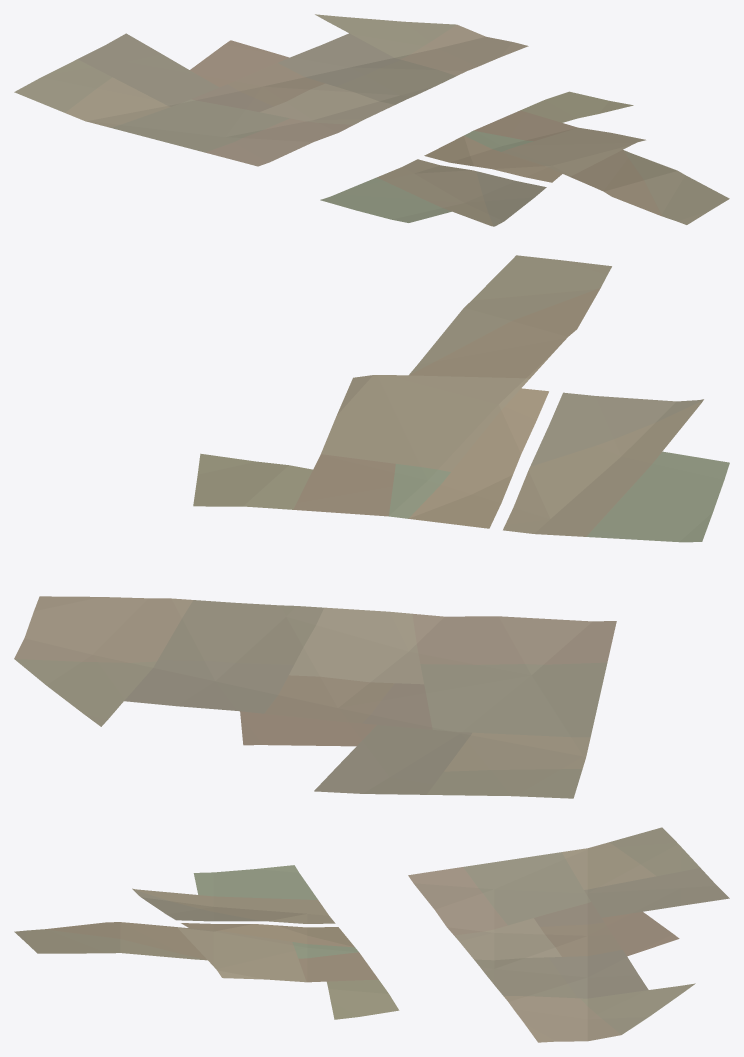
File: farm_0_13_soil.glb
3 renders of one model, top to bottom at view 1: azimuth 30°, elevation 25°; view 2: azimuth 150°, elevation 25°; view 3: azimuth 270°, elevation 25°, orthographic. The views are drawn at different scales.
Visible parts, largest first — view 1: geometry_0; view 2: geometry_0; view 3: geometry_0.
Part boxes in pixels (left/top/right/bottom): geometry_0: left=14, top=14, right=729, bottom=226; geometry_0: left=14, top=255, right=729, bottom=798; geometry_0: left=14, top=827, right=729, bottom=1042.
Size of the model in its own units: 410 by 59.99 by 613.
